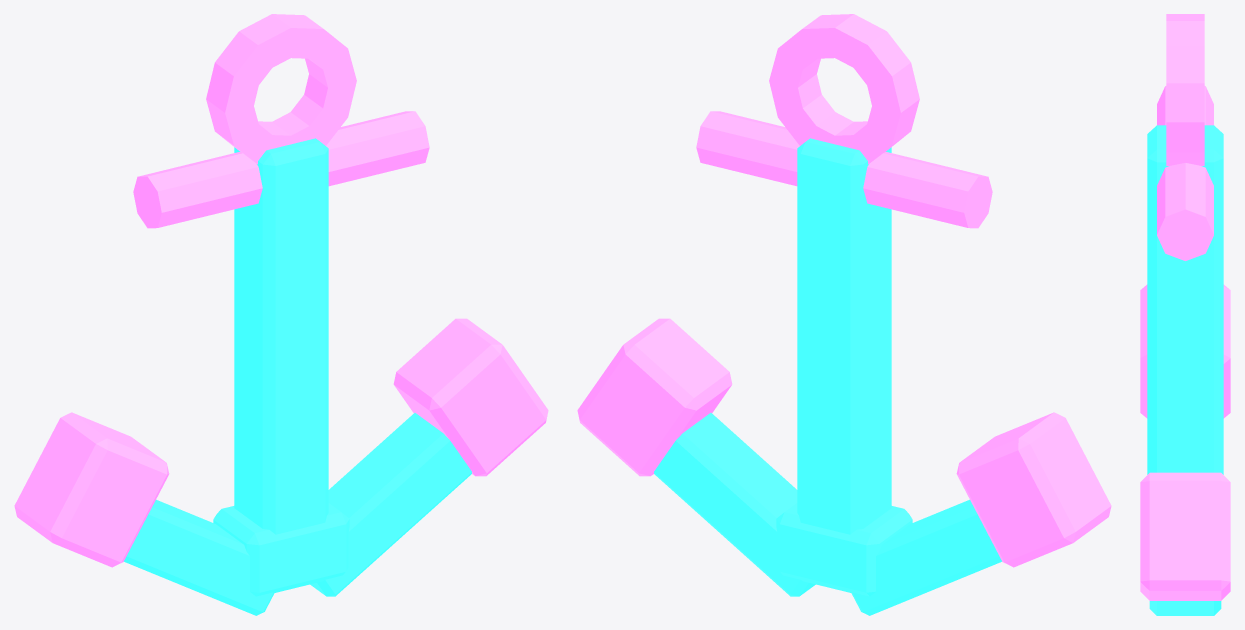
The model's file is item_anchor_neon.fbx.
3 views of the same model, side by side, from view 1: azimuth 30°, elevation 25°; view 2: azimuth 150°, elevation 25°; view 3: azimuth 270°, elevation 25° (orthographic).
Visible parts, largest first — view 1: item_anchor_neon; view 2: item_anchor_neon; view 3: item_anchor_neon.
Boxes of the visible parts, bbox=[...] form: item_anchor_neon: bbox=[14, 14, 548, 615]; item_anchor_neon: bbox=[577, 14, 1111, 615]; item_anchor_neon: bbox=[1140, 14, 1230, 615].
Size of the model in its own units: 2.42 by 2.67 by 0.38.
